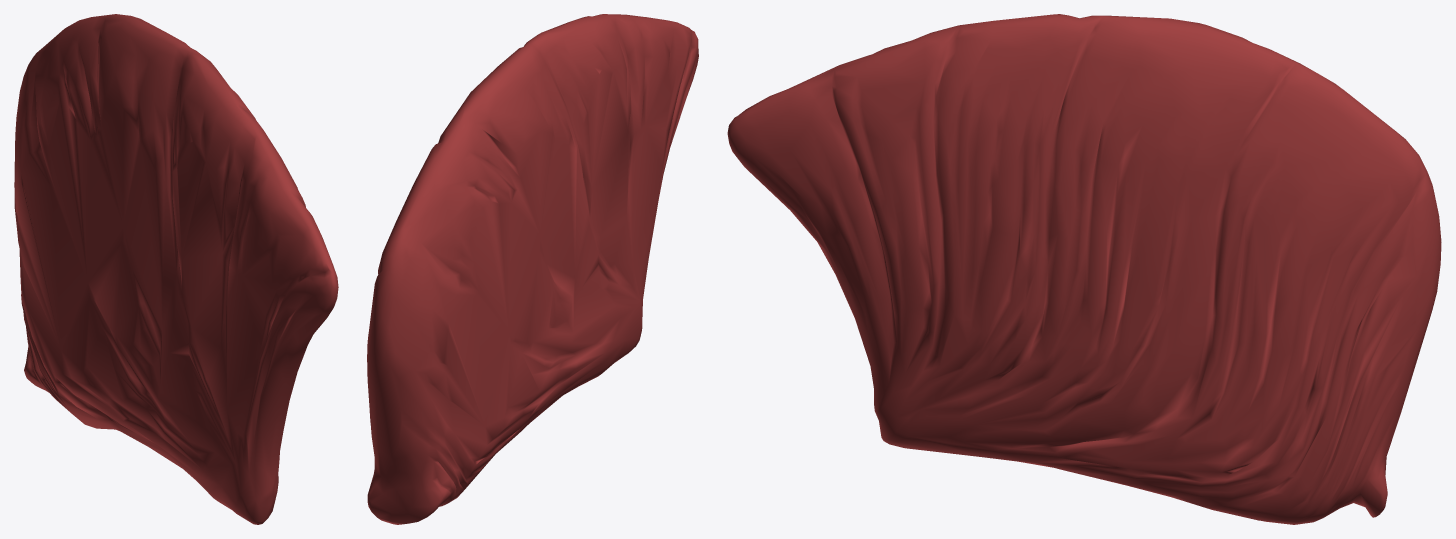
The model's file is genioglossus-muscle-l.glb.
3 views of the same model, side by side, from view 1: azimuth 30°, elevation 25°; view 2: azimuth 150°, elevation 25°; view 3: azimuth 270°, elevation 25° (orthographic). The views are drawn at different scales.
Parts seen in each view (by area): view 1: Genioglossus muscle.l; view 2: Genioglossus muscle.l; view 3: Genioglossus muscle.l.
Part boxes in pixels (<box>): Genioglossus muscle.l: <box>14,14,338,524</box>; Genioglossus muscle.l: <box>367,14,698,524</box>; Genioglossus muscle.l: <box>727,14,1441,524</box>.
Bounding box in the file's own units: 0.00761 × 0.0361 × 0.0476.
